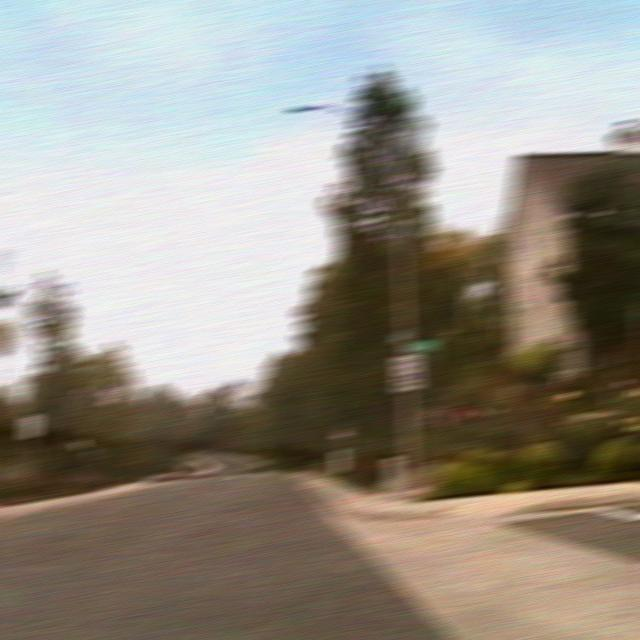speedLimit25: (392, 354, 423, 390)
